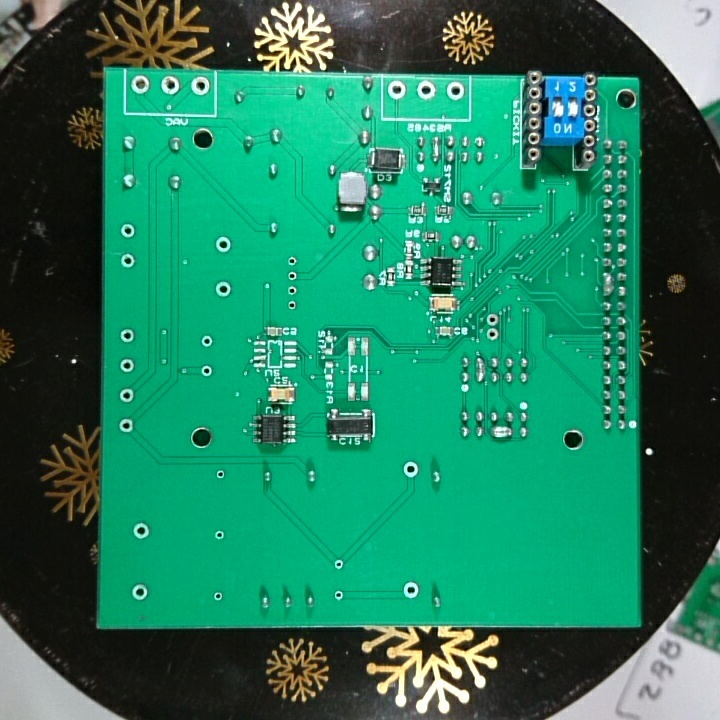F: (399, 578, 423, 601), (128, 520, 151, 543), (189, 76, 211, 100), (415, 78, 438, 100), (159, 76, 182, 98), (386, 79, 408, 101), (129, 75, 151, 97), (444, 80, 465, 102), (213, 279, 234, 299), (400, 459, 419, 480), (214, 234, 233, 255), (117, 356, 137, 375), (118, 222, 137, 241), (130, 583, 149, 602), (116, 386, 134, 406), (118, 252, 135, 272), (117, 328, 137, 345), (200, 332, 217, 352), (116, 417, 134, 435), (212, 526, 228, 546), (330, 554, 346, 572), (208, 590, 225, 606), (198, 362, 214, 379), (484, 312, 500, 328), (483, 326, 500, 341), (284, 253, 299, 268), (285, 268, 299, 284), (214, 465, 226, 483), (331, 588, 346, 602), (285, 283, 299, 298), (285, 298, 298, 312)
P: (488, 423, 514, 442), (600, 269, 614, 298), (474, 355, 486, 386), (430, 134, 442, 163)
